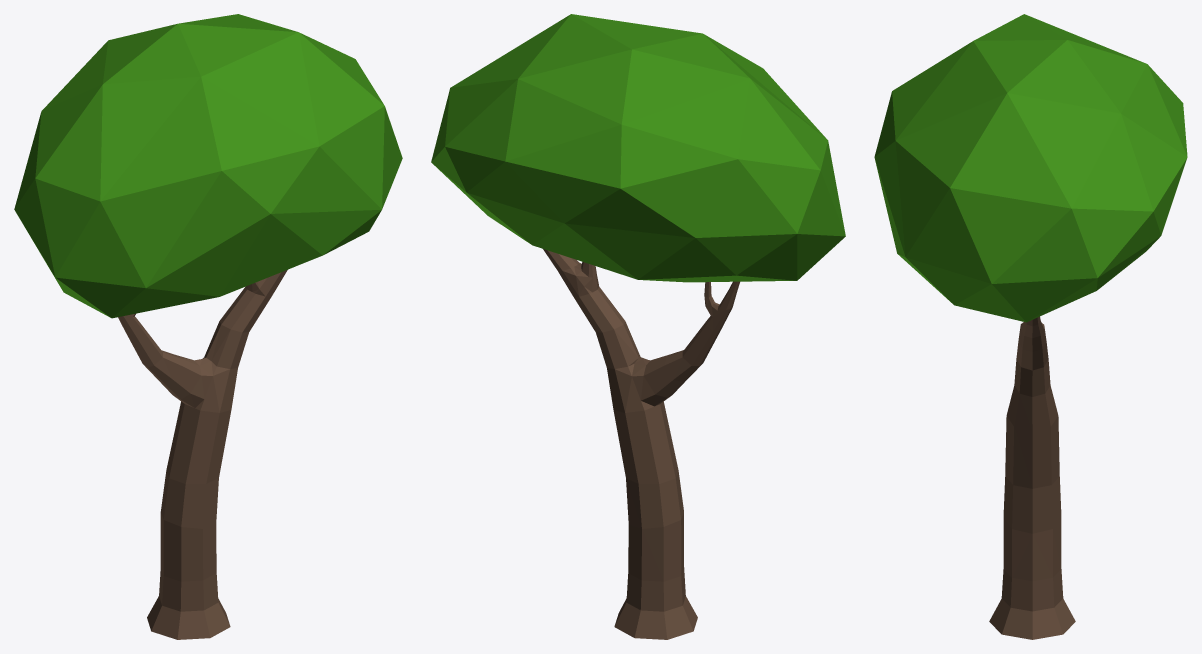
The model's file is cylinderTräd_mergeTrädtopp.fbx.
3 renders of one model, left to right at view 1: azimuth 30°, elevation 25°; view 2: azimuth 150°, elevation 25°; view 3: azimuth 270°, elevation 25°, orthographic.
Visible parts, largest first — view 1: Cylinder.001; view 2: Cylinder.001; view 3: Cylinder.001.
Boxes of the visible parts, <box> form: Cylinder.001: <box>14,14,402,639</box>; Cylinder.001: <box>431,14,845,639</box>; Cylinder.001: <box>874,14,1187,639</box>.
Bounding box in the file's own units: 877 × 1378 × 668.
1 material, 1 textured.
